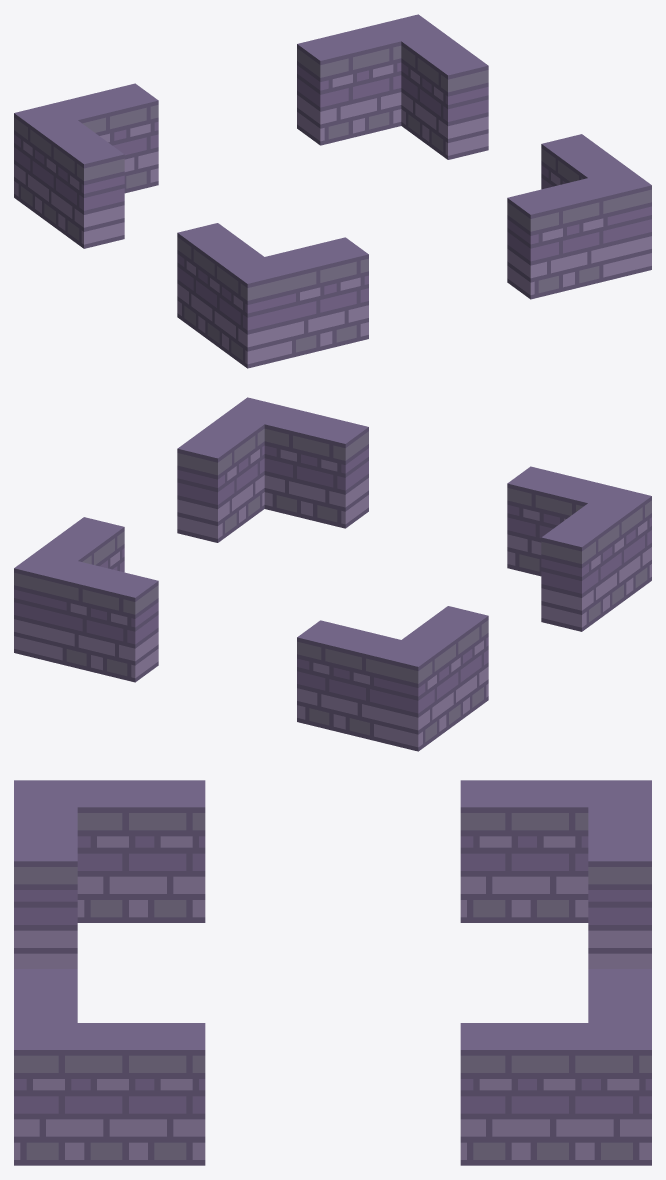
Rendered from room_Start1_Walls'.obj.
3 views of the same model, one above another, from view 1: azimuth 30°, elevation 25°; view 2: azimuth 150°, elevation 25°; view 3: azimuth 270°, elevation 25° (orthographic). The views are drawn at different scales.
Bounding box in the file's own units: 100 × 20 × 100.
1 material, 1 textured.
